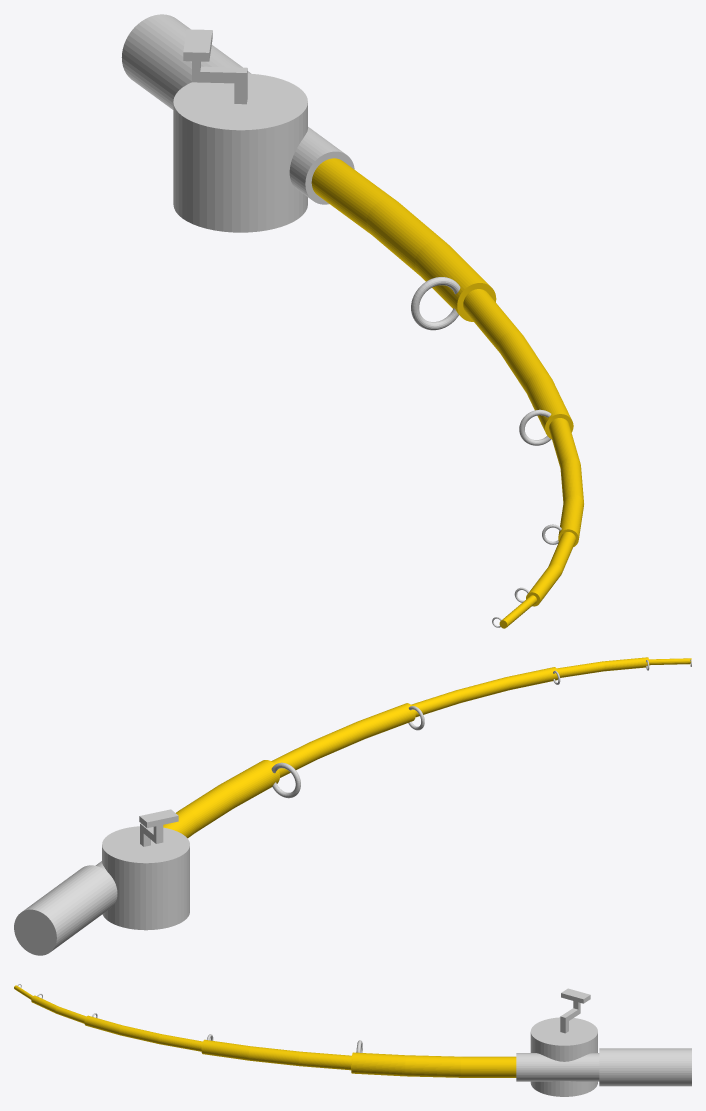
The model's file is Fishing Pole.glb.
The picture shows the model from 3 angles, top to bottom: view 1: azimuth 30°, elevation 25°; view 2: azimuth 150°, elevation 25°; view 3: azimuth 270°, elevation 25°; orthographic projection. The views are drawn at different scales.
Parts seen in each view (by area): view 1: Group#1-Entity17615, Group#5-Entity38825, Group#3-Entity17613, Group#2-Entity17614, Group#6-Entity38823; view 2: Group#5-Entity38825, Group#1-Entity17615, Group#3-Entity17613, Group#2-Entity17614; view 3: Group#5-Entity38825, Group#3-Entity17613, Group#1-Entity17615, Group#2-Entity17614.
Boxes of the visible parts, x1,y1,x2,y2 form: Group#1-Entity17615: [173, 73, 307, 232]; Group#5-Entity38825: [311, 158, 583, 628]; Group#3-Entity17613: [121, 14, 354, 204]; Group#2-Entity17614: [183, 29, 247, 104]; Group#6-Entity38823: [411, 277, 460, 330]; Group#5-Entity38825: [163, 657, 691, 838]; Group#1-Entity17615: [102, 826, 189, 930]; Group#3-Entity17613: [14, 861, 117, 955]; Group#2-Entity17614: [139, 809, 178, 846]; Group#5-Entity38825: [14, 985, 516, 1077]; Group#3-Entity17613: [516, 1048, 691, 1086]; Group#1-Entity17615: [530, 1017, 597, 1096]; Group#2-Entity17614: [560, 988, 590, 1033].
Bounding box in the file's own units: 63.42 × 26.89 × 204.
